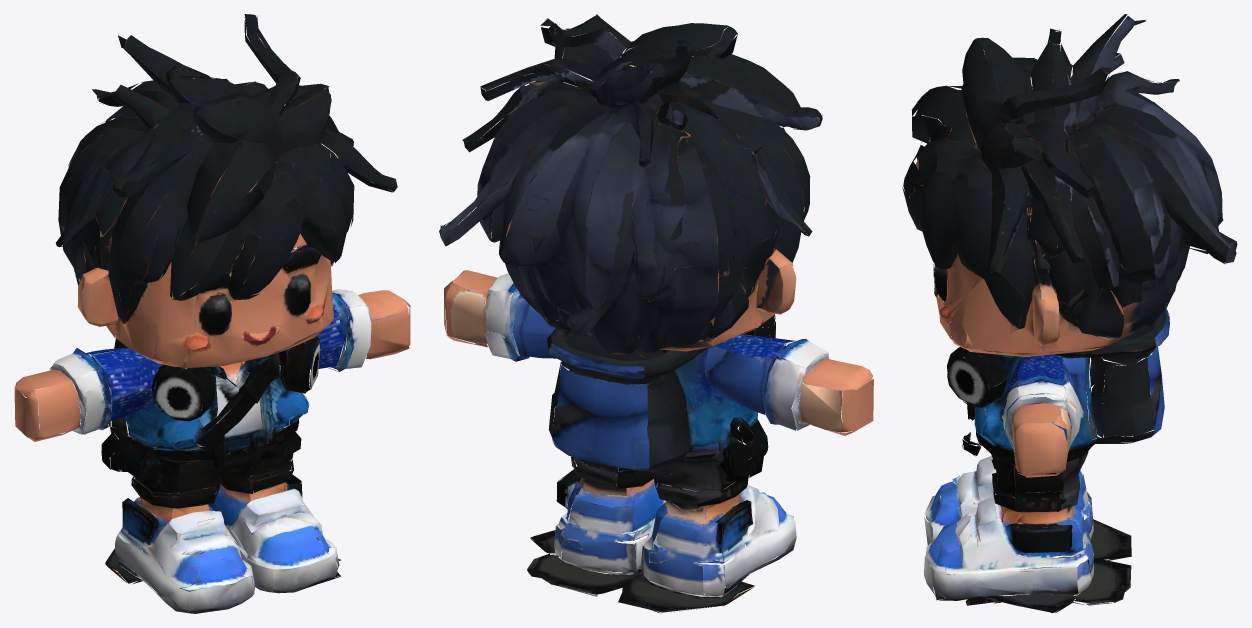
File: kai_trellis_v1.glb
3 renders of one model, left to right at view 1: azimuth 30°, elevation 25°; view 2: azimuth 150°, elevation 25°; view 3: azimuth 270°, elevation 25°, orthographic. The views are drawn at different scales.
Visible parts, largest first — view 1: Body; view 2: Body; view 3: Body.
Boxes of the visible parts, x1=… form: Body: x1=14, y1=14, x2=410, y2=613; Body: x1=439, y1=14, x2=873, y2=613; Body: x1=902, y1=14, x2=1237, y2=613.
Bounding box in the file's own units: 0.5612 × 0.72 × 0.4077.
Materials: 1 (1 with a texture image).
